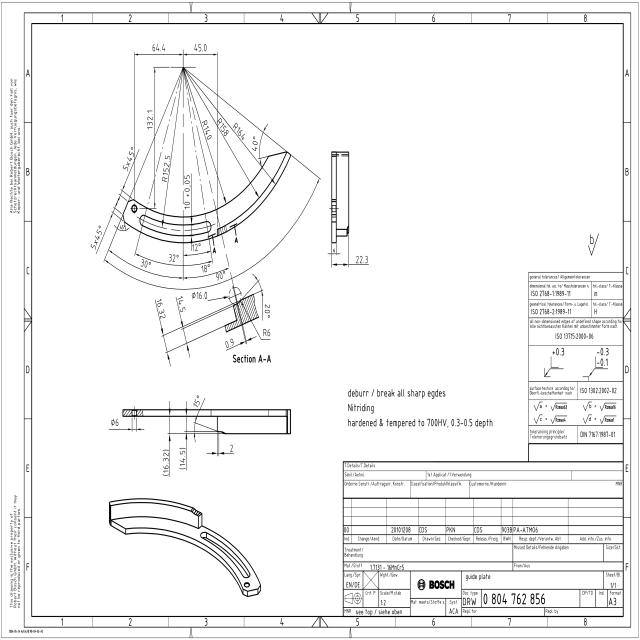dimension: (121, 144, 136, 173), (90, 223, 104, 251), (199, 117, 214, 142), (230, 120, 247, 142), (160, 153, 172, 183), (215, 116, 231, 138), (183, 172, 191, 211), (154, 297, 167, 321), (161, 447, 171, 478), (190, 289, 208, 302), (178, 445, 186, 471), (145, 108, 154, 131), (150, 41, 167, 53), (191, 392, 202, 410), (250, 134, 260, 153), (139, 257, 153, 270), (223, 336, 236, 350), (193, 41, 208, 53), (176, 294, 185, 314), (263, 302, 272, 321), (214, 270, 227, 283), (200, 260, 212, 274), (355, 253, 369, 265), (190, 240, 202, 253), (167, 252, 180, 264), (262, 326, 272, 339), (109, 417, 120, 427), (228, 442, 235, 454), (118, 223, 127, 232), (332, 247, 336, 254)
